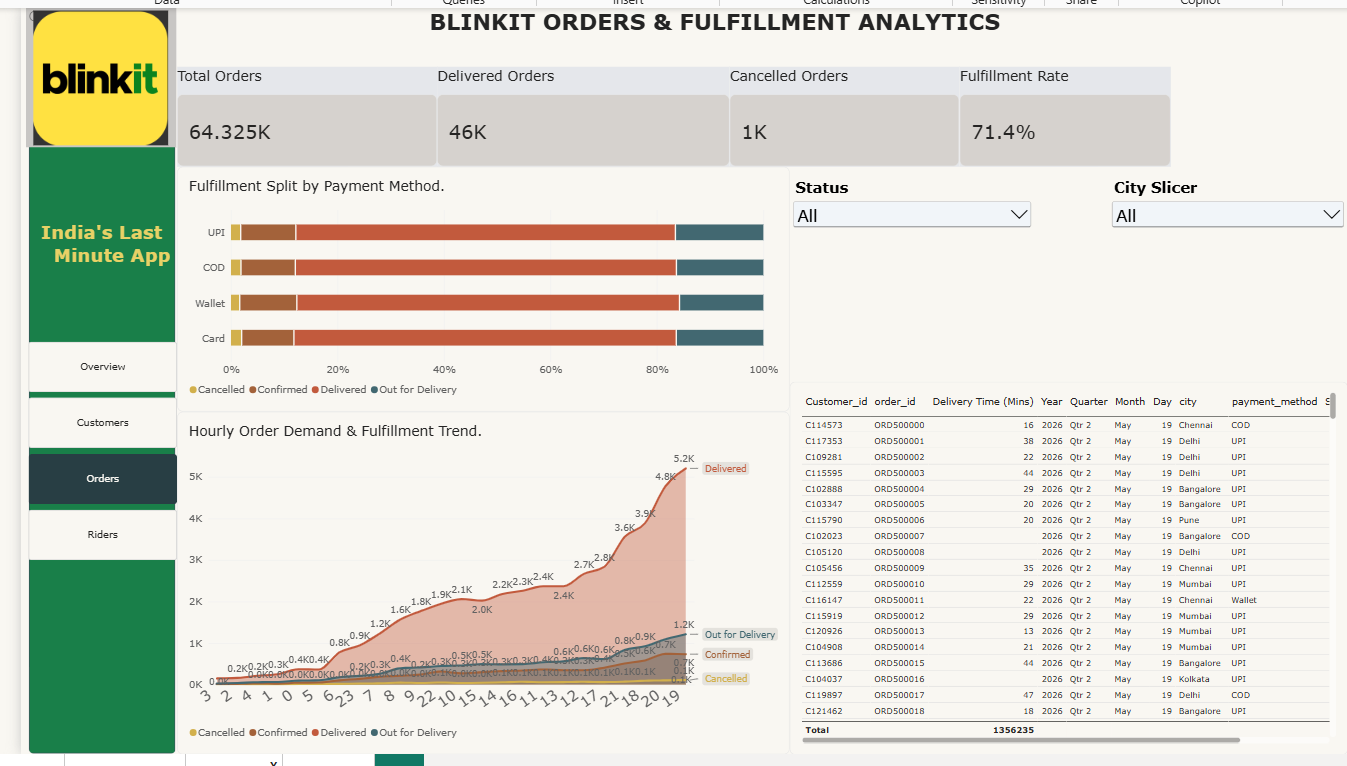

The page's visual inventory and layout, read from the dashboard file:
{"tool":"powerbi","page":{"name":"Orders","canvas":[1920,1080],"ordinal":2},"visuals":[{"type":"shape","box":[10.9,1.4,213.5,1078.6],"z":0},{"type":"textbox","box":[11.4,0,215.2,1080.4],"z":1000},{"type":"textbox","box":[586,0,881.3,100.7],"z":2000},{"type":"pageNavigator","box":[11.4,483,215,316.4],"z":3000},{"type":"image","box":[6.9,0,217.5,201.4],"z":4000},{"type":"image","box":[9,3.6,213.5,195.4],"z":5000},{"type":"cardVisual","title":"Total Orders","fields":{"Data":["CountNonNull(Blinkit_PowerBI_Data.order_date)"]},"box":[226.2,85.1,376.4,144.8],"z":6000},{"type":"cardVisual","title":"Delivered Orders","fields":{"Data":["Blinkit_PowerBI_Data.Delivered Orders"]},"box":[602.6,85.1,423.5,144.8],"z":7000},{"type":"cardVisual","title":"Cancelled Orders","fields":{"Data":["Blinkit_PowerBI_Data.Cancelled Orders"]},"box":[1026.1,85.1,333,144.8],"z":8000},{"type":"cardVisual","title":"Fulfillment Rate","fields":{"Data":["Blinkit_PowerBI_Data.Fulfillment Rate"]},"box":[1359.1,85.1,305.8,144.8],"z":9000},{"type":"areaChart","title":"Hourly Order Demand & Fulfillment Trend.","fields":{"Category":["Blinkit_PowerBI_Data.order_hour"],"Y":["CountNonNull(Blinkit_PowerBI_Data.order_id)"],"Series":["Blinkit_PowerBI_Data.status"]},"box":[226.2,584.5,886.7,495.8],"z":10000},{"type":"hundredPercentStackedBarChart","title":"Fulfillment Split by Payment Method.","fields":{"Category":["Blinkit_PowerBI_Data.payment_method"],"Y":["CountNonNull(Blinkit_PowerBI_Data.order_id)"],"Series":["Blinkit_PowerBI_Data.status"]},"box":[226.2,229.8,886.7,354.7],"z":11000},{"type":"tableEx","fields":{"Values":["Blinkit_PowerBI_Data.Customer_id","Blinkit_PowerBI_Data.order_id","Sum(Blinkit_PowerBI_Data.delivery_time_mins)","Blinkit_PowerBI_Data.order_date.Variation.Date Hierarchy.Year","Blinkit_PowerBI_Data.order_date.Variation.Date Hierarchy.Quarter","Blinkit_PowerBI_Data.order_date.Variation.Date Hierarchy.Month","Blinkit_PowerBI_Data.order_date.Variation.Date Hierarchy.Day","Blinkit_PowerBI_Data.city","Blinkit_PowerBI_Data.payment_method","Sum(Blinkit_PowerBI_Data.gross_amount)"]},"box":[1112.5,540.2,808,540.2],"z":12000},{"type":"slicer","fields":{"Values":["Blinkit_PowerBI_Data.status"]},"box":[1574.4,246.1,345.6,139.3],"z":13000},{"type":"slicer","fields":{"Values":["Blinkit_PowerBI_Data.status"]},"box":[1112.9,246.1,354.7,150.2],"z":14000}]}

Visuals, with their boxes on the page's 1920x1080 design canvas (x1, y1, x2, y2). These are canvas units, not pixel positions in the 1347x766 screenshot, which may show the page scaled, cropped or inside an application window:
shape: (11, 1, 224, 1080)
textbox: (11, 0, 227, 1080)
textbox: (586, 0, 1467, 101)
pageNavigator: (11, 483, 226, 799)
image: (7, 0, 224, 201)
image: (9, 4, 222, 199)
"Total Orders" cardVisual: (226, 85, 603, 230)
"Delivered Orders" cardVisual: (603, 85, 1026, 230)
"Cancelled Orders" cardVisual: (1026, 85, 1359, 230)
"Fulfillment Rate" cardVisual: (1359, 85, 1665, 230)
"Hourly Order Demand & Fulfillment Trend." areaChart: (226, 584, 1113, 1080)
"Fulfillment Split by Payment Method." hundredPercentStackedBarChart: (226, 230, 1113, 584)
tableEx - Blinkit_PowerBI_Data.Customer_id x Blinkit_PowerBI_Data.order_id: (1112, 540, 1920, 1080)
slicer - Blinkit_PowerBI_Data.status: (1574, 246, 1920, 385)
slicer - Blinkit_PowerBI_Data.status: (1113, 246, 1468, 396)
